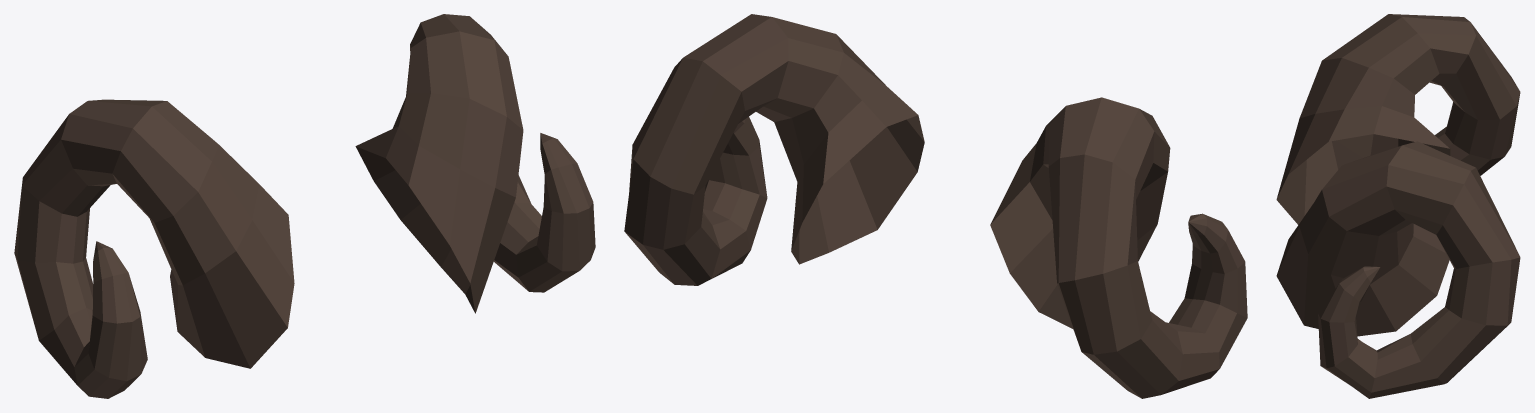
Rendered from Hat_HornsRam.fbx.
The picture shows the model from 3 angles, left to right: view 1: azimuth 30°, elevation 25°; view 2: azimuth 150°, elevation 25°; view 3: azimuth 270°, elevation 25°; orthographic projection. The views are drawn at different scales.
Parts seen in each view (by area): view 1: Hat_HornsRam; view 2: Hat_HornsRam; view 3: Hat_HornsRam.
Part boxes in pixels (<box>): Hat_HornsRam: <box>14,14,595,398</box>; Hat_HornsRam: <box>624,14,1247,398</box>; Hat_HornsRam: <box>1276,14,1520,398</box>.
Size of the model in its own units: 3.16 by 1.58 by 1.56.
